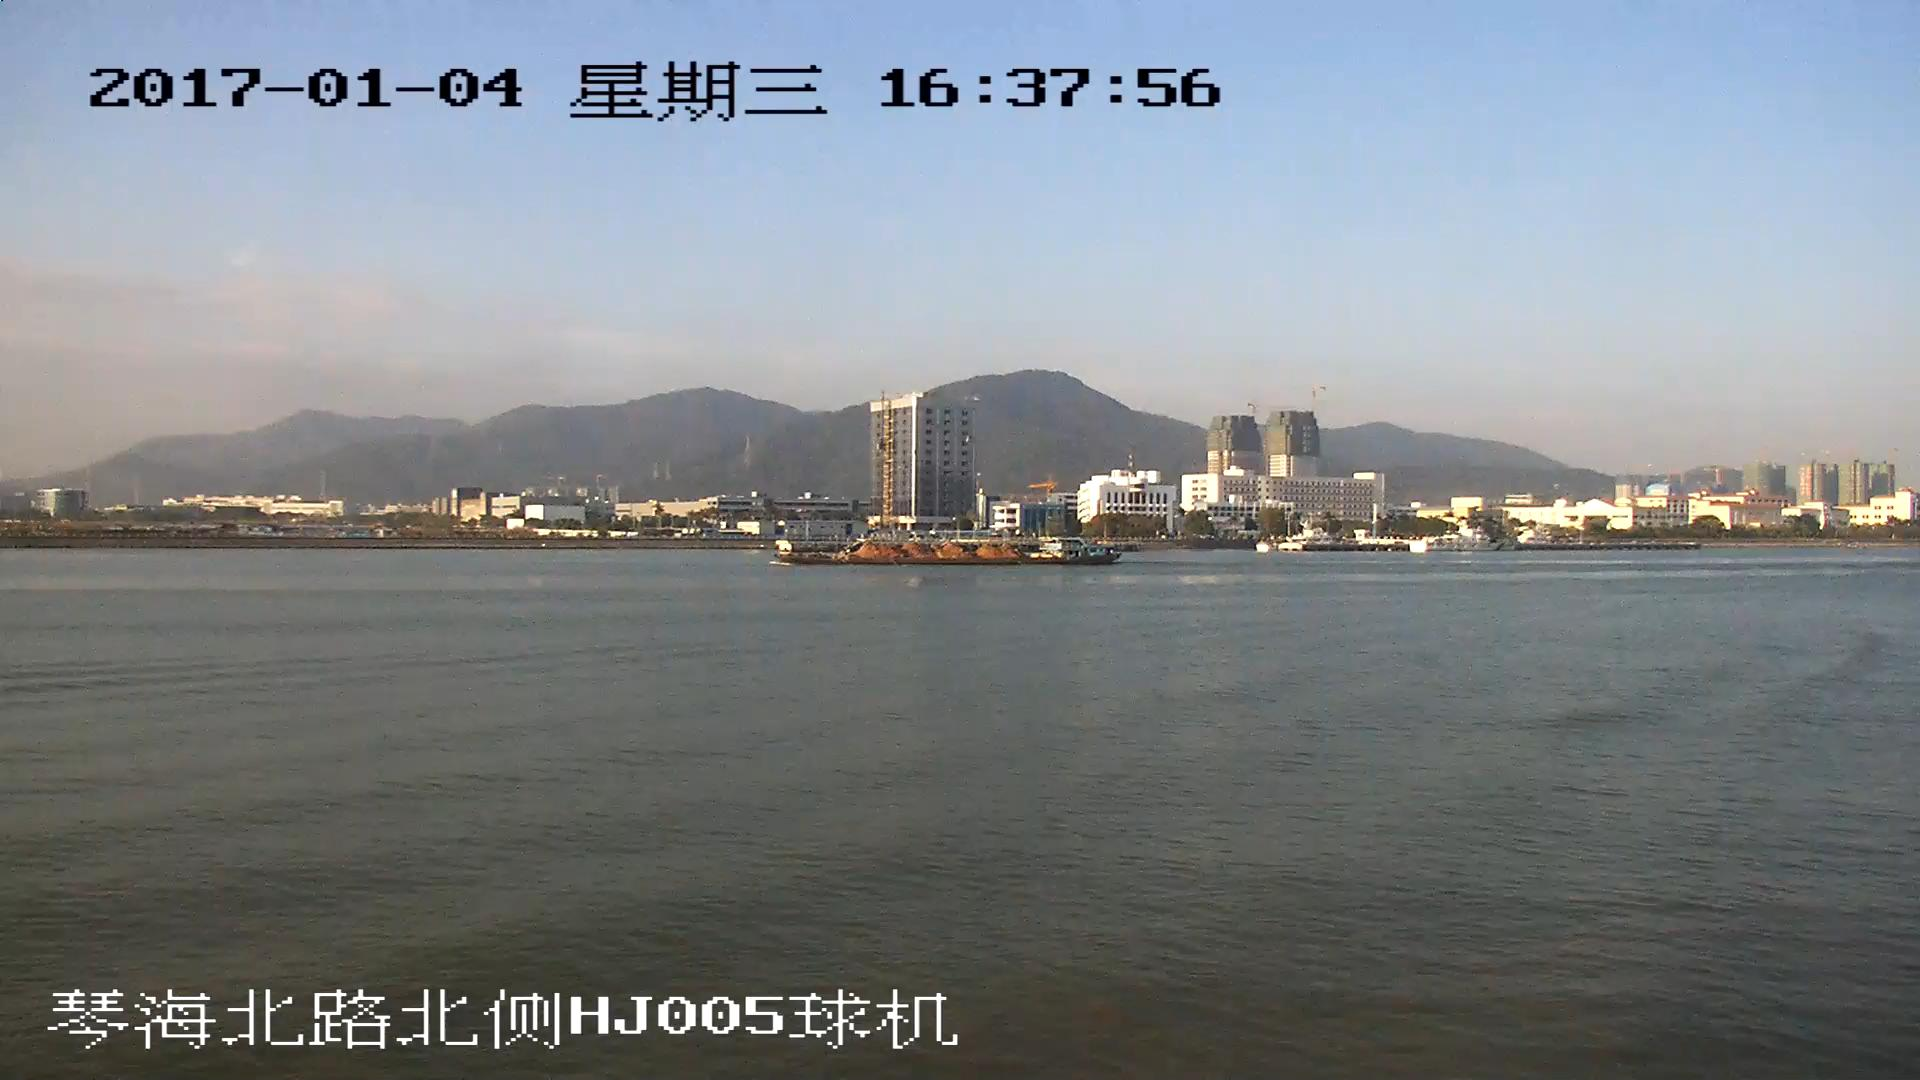ore carrier: (777, 537, 1122, 568)
